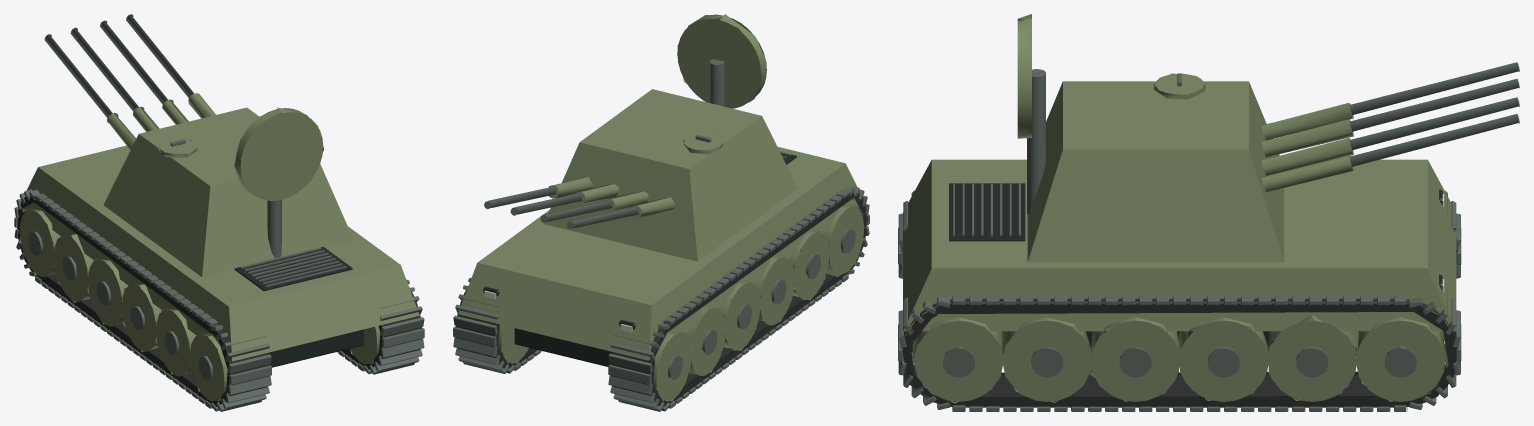
File: aaa.glb
3 renders of one model, left to right at view 1: azimuth 30°, elevation 25°; view 2: azimuth 150°, elevation 25°; view 3: azimuth 270°, elevation 25°, orthographic. The views are drawn at different scales.
Visible parts, largest first — view 1: static.olive painted metal, static.dark exterior metal, static.rubber and track pads, static.recess shadow; view 2: static.olive painted metal, static.dark exterior metal, static.rubber and track pads, static.recess shadow; view 3: static.olive painted metal, static.dark exterior metal, static.rubber and track pads, static.recess shadow.
Boxes of the visible parts, x1=… form: static.olive painted metal: x1=19, y1=93, x2=419, y2=401; static.dark exterior metal: x1=14, y1=14, x2=424, y2=411; static.rubber and track pads: x1=17, y1=195, x2=421, y2=406; static.recess shadow: x1=234, y1=246, x2=363, y2=367; static.olive painted metal: x1=458, y1=14, x2=864, y2=401; static.dark exterior metal: x1=453, y1=59, x2=869, y2=411; static.rubber and track pads: x1=455, y1=192, x2=867, y2=406; static.recess shadow: x1=483, y1=154, x2=796, y2=366; static.olive painted metal: x1=903, y1=14, x2=1456, y2=403; static.dark exterior metal: x1=898, y1=62, x2=1519, y2=411; static.rubber and track pads: x1=901, y1=239, x2=1457, y2=407; static.recess shadow: x1=949, y1=183, x2=1442, y2=355.
Size of the model in its own units: 3.13 by 3.83 by 6.5.
